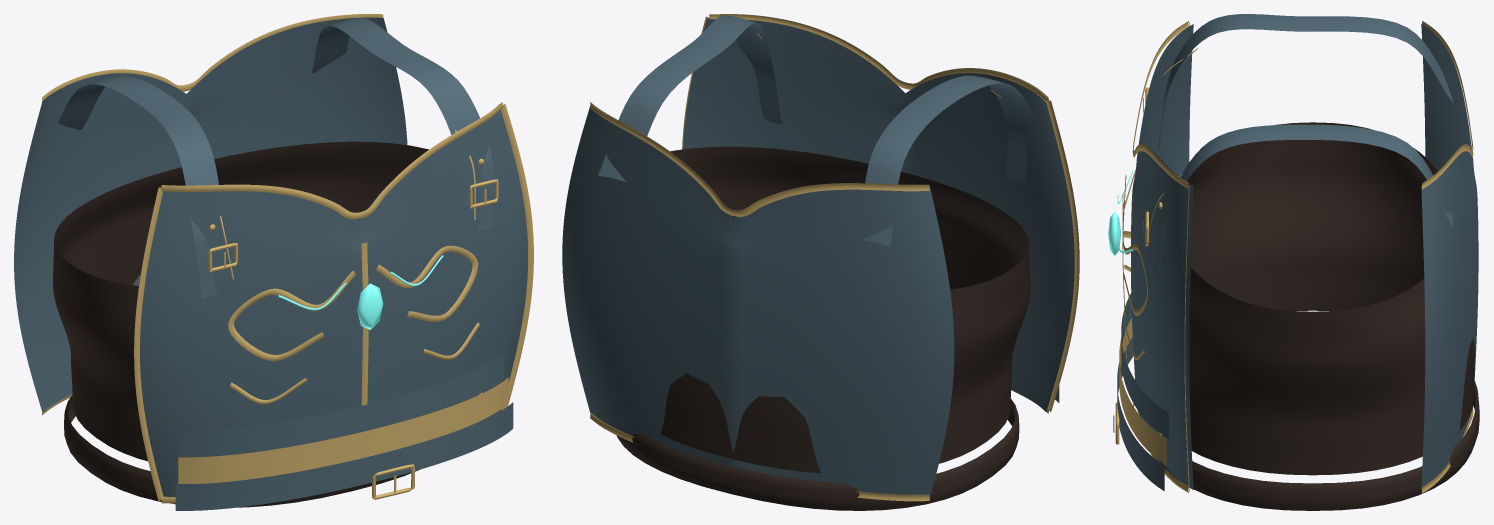
The model's file is runeforged_cuirass.glb.
3 renders of one model, left to right at view 1: azimuth 30°, elevation 25°; view 2: azimuth 150°, elevation 25°; view 3: azimuth 270°, elevation 25°, orthographic. The views are drawn at different scales.
Visible parts, largest first — view 1: crate-runeforged_cuirass-cuirass-surface-1, crate-runeforged_cuirass-cuirass-surface-0, crate-runeforged_cuirass-cuirass-surface-2, crate-runeforged_cuirass-cuirass-surface-3; view 2: crate-runeforged_cuirass-cuirass-surface-1, crate-runeforged_cuirass-cuirass-surface-0, crate-runeforged_cuirass-cuirass-surface-2; view 3: crate-runeforged_cuirass-cuirass-surface-0, crate-runeforged_cuirass-cuirass-surface-1, crate-runeforged_cuirass-cuirass-surface-2, crate-runeforged_cuirass-cuirass-surface-3.
Part boxes in pixels (x1,y1,x2,y2): crate-runeforged_cuirass-cuirass-surface-1: (14, 17, 527, 510); crate-runeforged_cuirass-cuirass-surface-0: (53, 141, 428, 507); crate-runeforged_cuirass-cuirass-surface-2: (42, 14, 533, 503); crate-runeforged_cuirass-cuirass-surface-3: (278, 255, 443, 329); crate-runeforged_cuirass-cuirass-surface-1: (562, 15, 1074, 496); crate-runeforged_cuirass-cuirass-surface-0: (616, 146, 1030, 510); crate-runeforged_cuirass-cuirass-surface-2: (590, 14, 1079, 501); crate-runeforged_cuirass-cuirass-surface-0: (1158, 122, 1479, 510); crate-runeforged_cuirass-cuirass-surface-1: (1117, 14, 1478, 491); crate-runeforged_cuirass-cuirass-surface-2: (1113, 21, 1473, 493); crate-runeforged_cuirass-cuirass-surface-3: (1108, 171, 1133, 256).
Size of the model in its own units: 0.893 by 0.7645 by 0.7368.
